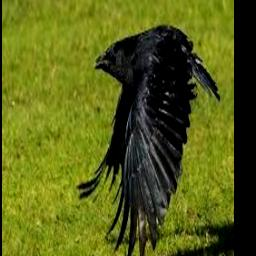Crow: (76, 24, 221, 256)
